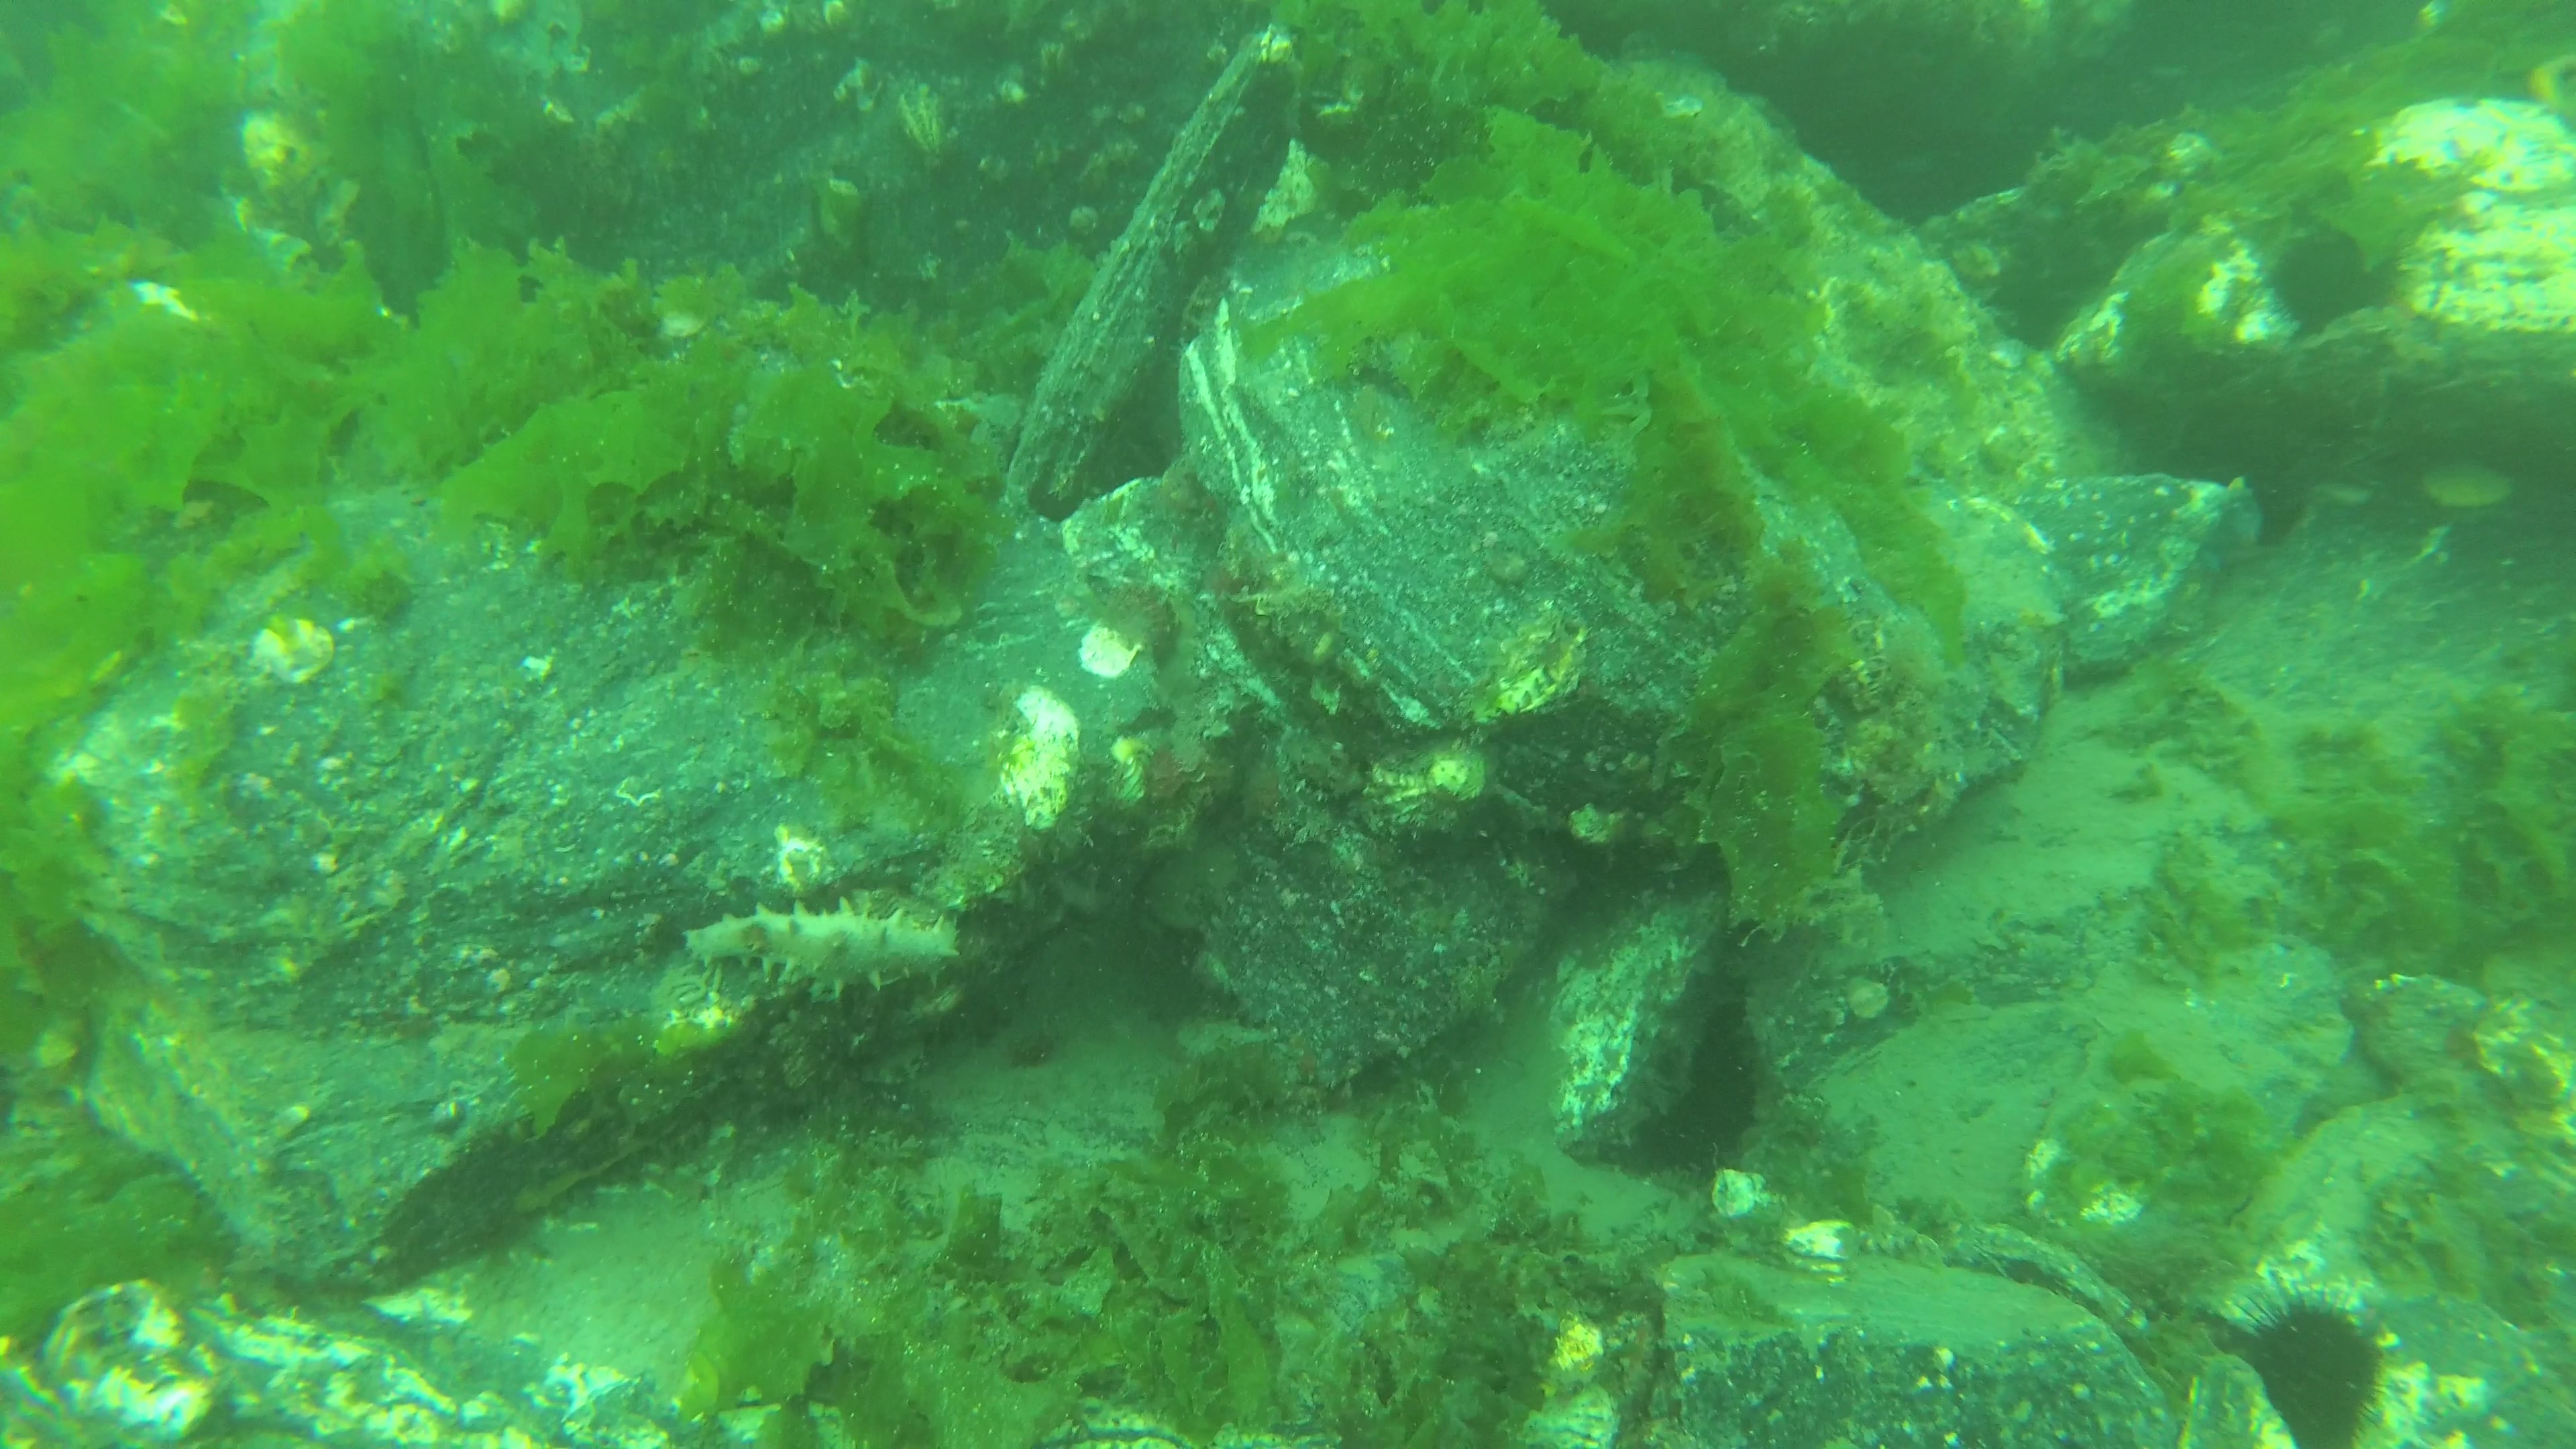echinus: (2213, 1267, 2399, 1449), (2259, 228, 2411, 338)
holothurian: (672, 888, 968, 1007)
